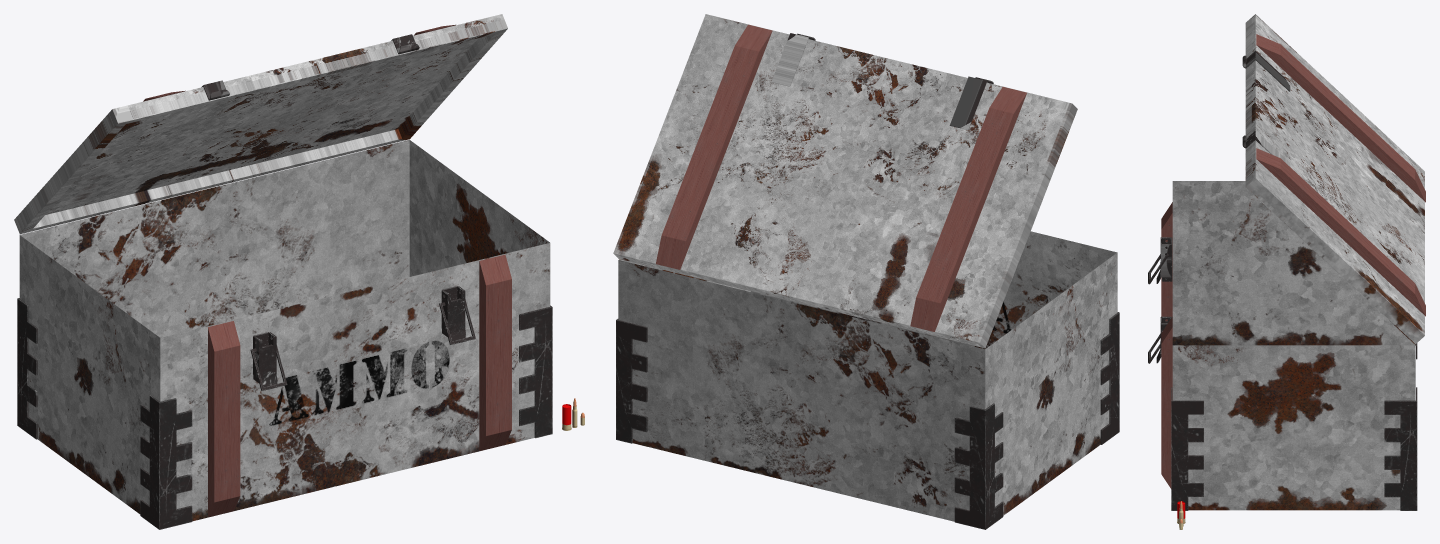
Rendered from AmmoBoxWAmmo.fbx.
The picture shows the model from 3 angles, left to right: view 1: azimuth 30°, elevation 25°; view 2: azimuth 150°, elevation 25°; view 3: azimuth 270°, elevation 25°; orthographic projection. The views are drawn at different scales.
Parts seen in each view (by area): view 1: ChestBody, ChestTop, ChestPlank2, ChestPlank1, ChestSidePiece1, ChestSidePiece4, ChestSidePiece2, LockPart5, LockPart3; view 2: ChestBody, ChestTop, ChestPlank4, ChestPlank3, ChestSidePiece2, ChestSidePiece3, ChestSidePiece1, ChestHinge1, ChestHinge; view 3: ChestBody, ChestTop, ChestPlank3, ChestPlank4, ChestSidePiece3, ChestSidePiece4, ChestPlank2, ChestPlank1, ChestHinge, LockPart3, ChestHinge1.
Boxes of the visible parts, x1,y1,x2,y2 form: ChestBody: [19, 139, 550, 521]; ChestTop: [14, 14, 507, 234]; ChestPlank2: [479, 254, 511, 451]; ChestPlank1: [208, 321, 240, 517]; ChestSidePiece1: [140, 395, 192, 529]; ChestSidePiece4: [519, 305, 552, 438]; ChestSidePiece2: [17, 298, 37, 439]; LockPart5: [441, 286, 465, 340]; LockPart3: [253, 332, 277, 386]; ChestBody: [618, 231, 1117, 521]; ChestTop: [613, 14, 1077, 348]; ChestPlank4: [656, 24, 772, 269]; ChestPlank3: [910, 87, 1026, 331]; ChestSidePiece2: [954, 403, 1003, 529]; ChestSidePiece3: [616, 319, 647, 443]; ChestSidePiece1: [1100, 312, 1119, 444]; ChestHinge1: [771, 33, 815, 86]; ChestHinge: [949, 76, 993, 129]; ChestBody: [1172, 181, 1415, 510]; ChestTop: [1245, 14, 1424, 344]; ChestPlank3: [1256, 34, 1425, 202]; ChestPlank4: [1256, 148, 1425, 316]; ChestSidePiece3: [1384, 387, 1417, 510]; ChestSidePiece4: [1171, 387, 1203, 510]; ChestPlank2: [1161, 316, 1172, 488]; ChestPlank1: [1161, 202, 1172, 321]; ChestHinge: [1242, 51, 1290, 91]; LockPart3: [1156, 237, 1171, 283]; ChestHinge1: [1242, 130, 1290, 166].
Bounding box in the file's own units: 442 × 383 × 286.
